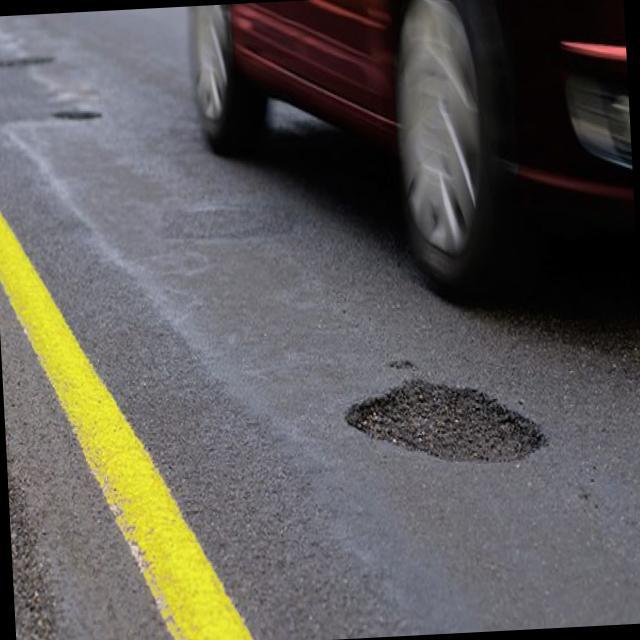Pothole: (355, 332, 531, 473), (0, 48, 73, 79), (54, 112, 112, 148)
